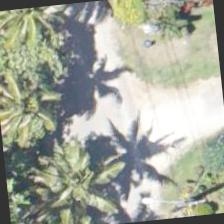Kelapa_Sawit: (28, 140, 128, 223), (0, 59, 72, 157), (0, 5, 65, 83)
